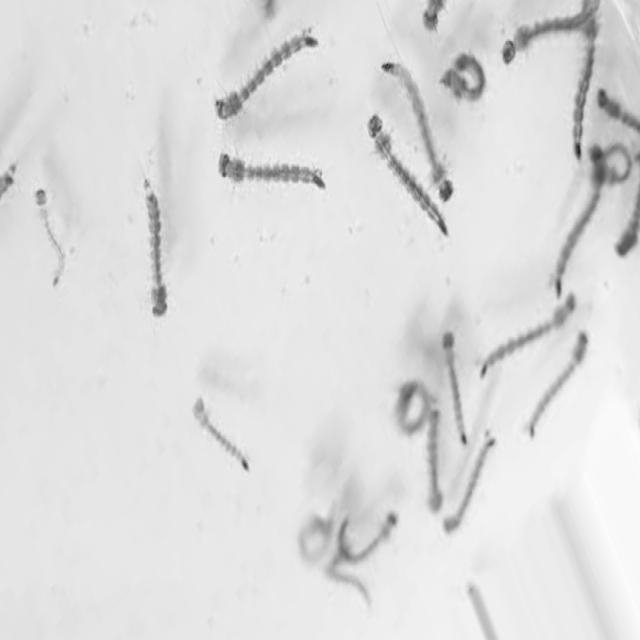larvas: (378, 52, 458, 205), (362, 109, 453, 240), (476, 290, 584, 384), (215, 28, 317, 118), (521, 326, 593, 447), (552, 147, 601, 296), (438, 431, 501, 540), (498, 5, 603, 68), (193, 398, 248, 470), (334, 510, 397, 569), (219, 153, 324, 187), (574, 19, 600, 151), (35, 187, 65, 285), (145, 178, 166, 316), (444, 333, 469, 441), (320, 548, 370, 598), (443, 49, 486, 98), (618, 168, 640, 258), (596, 93, 640, 133), (428, 408, 442, 522), (398, 384, 427, 434), (300, 518, 334, 558), (604, 144, 631, 186), (423, 0, 441, 30)
